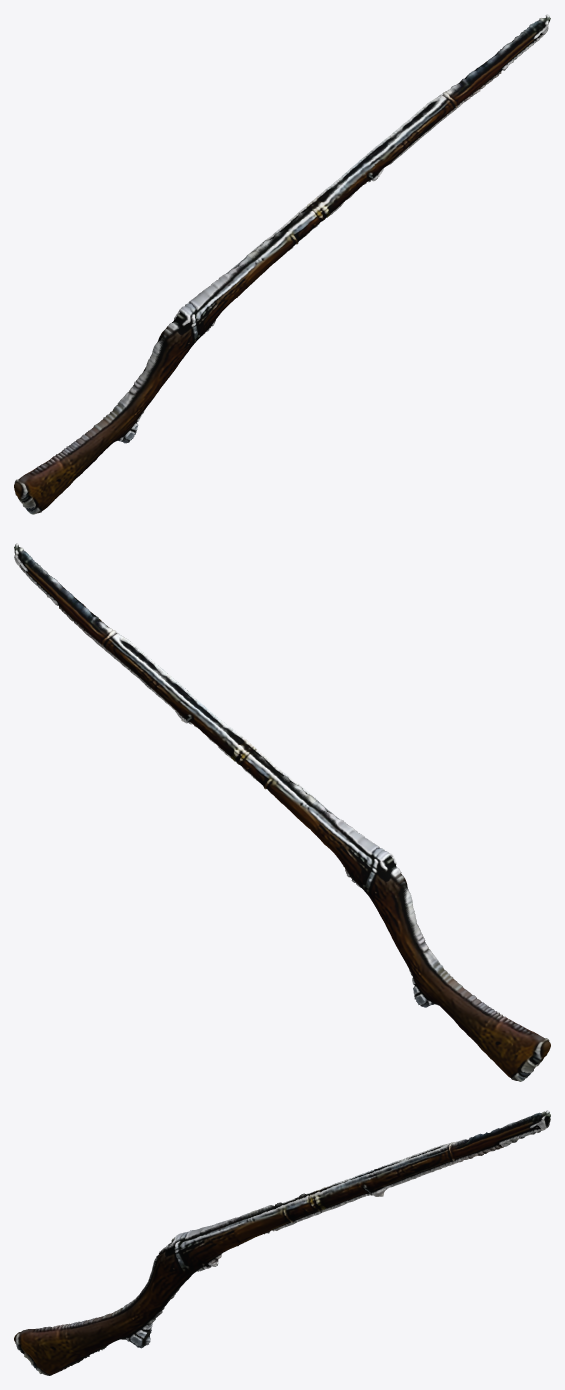
The model's file is kfl-2209.glb.
3 renders of one model, top to bottom at view 1: azimuth 30°, elevation 25°; view 2: azimuth 150°, elevation 25°; view 3: azimuth 330°, elevation 25°, orthographic. The views are drawn at different scales.
Parts seen in each view (by area): view 1: kfl-2209; view 2: kfl-2209; view 3: kfl-2209.
Part boxes in pixels (x1,y1,x2,y2): kfl-2209: (14, 14, 550, 514); kfl-2209: (14, 543, 550, 1081); kfl-2209: (14, 1110, 550, 1375).
Bounding box in the file's own units: 0.9841 × 0.6923 × 0.0732.
Materials: 1 (1 with a texture image).
